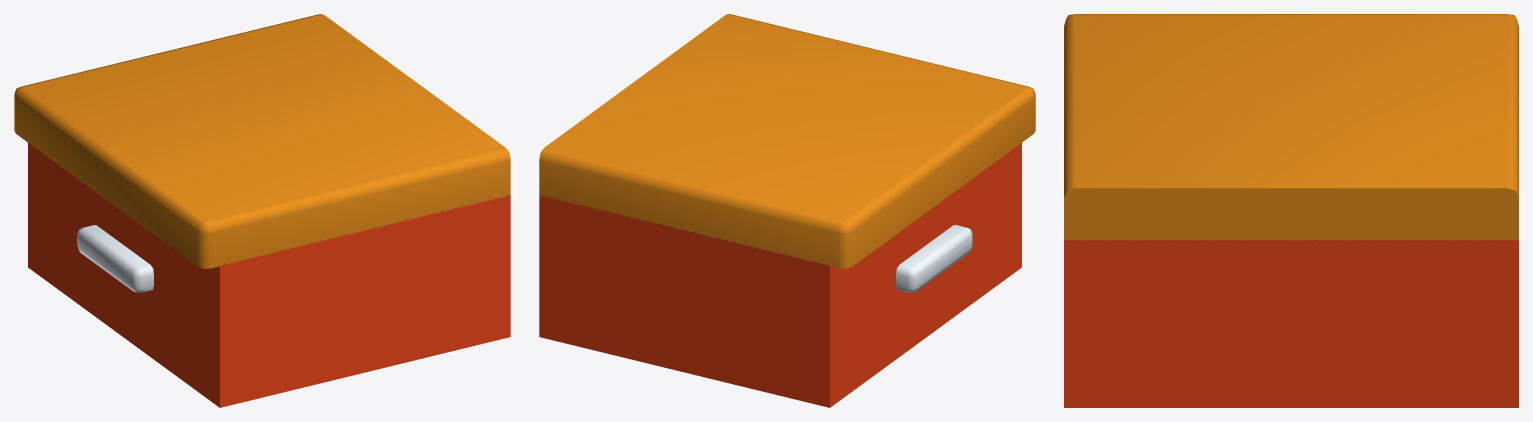
Rendered from ban 3.FBX.
3 views of the same model, side by side, from view 1: azimuth 30°, elevation 25°; view 2: azimuth 150°, elevation 25°; view 3: azimuth 270°, elevation 25° (orthographic). The views are drawn at different scales.
Parts seen in each view (by area): view 1: Object242; view 2: Object242; view 3: Object242.
Boxes of the visible parts, left/top/right/bottom form: Object242: left=14, top=14, right=510, bottom=407; Object242: left=539, top=14, right=1035, bottom=407; Object242: left=1064, top=14, right=1518, bottom=407.
Bounding box in the file's own units: 2.21 × 1.27 × 2.38.
